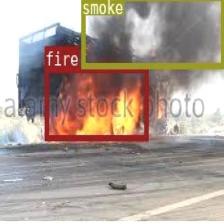fire: (44, 66, 147, 140)
smoke: (80, 0, 224, 67)
